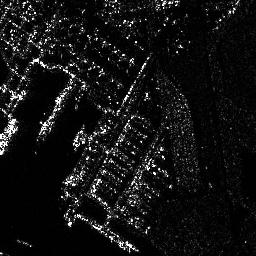ship: (1, 119, 18, 154), (72, 124, 86, 153)
